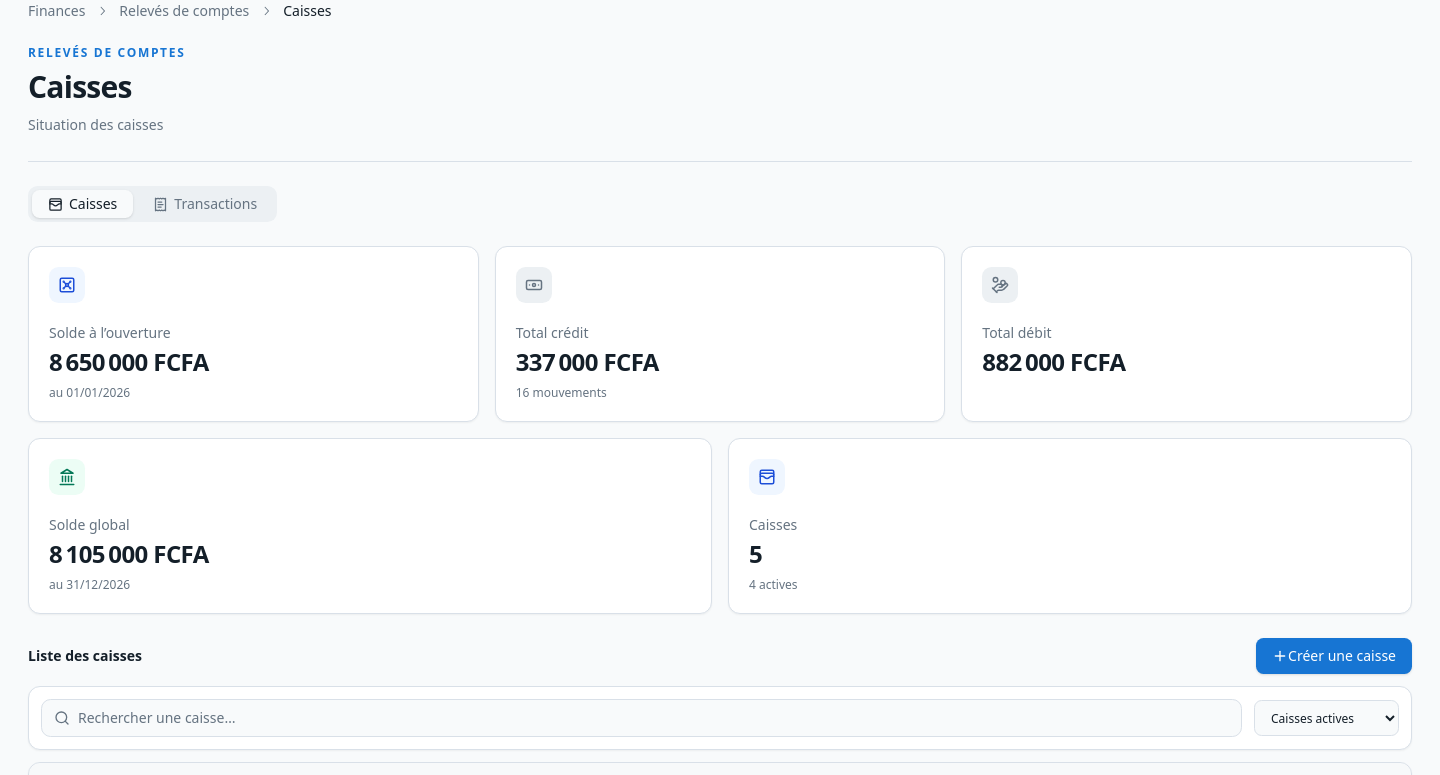
Test: Caisse — cycle de vie depuis l’interface › « Caisses inactives » regroupe aussi les caisses archivées (identifiables par leur badge)
Check: the button "Transport" is not shown
Select "Caisses inactives" in the dropdown named "Statut" at (1326, 718), box [1254,700,1399,736]
(page scrolled)
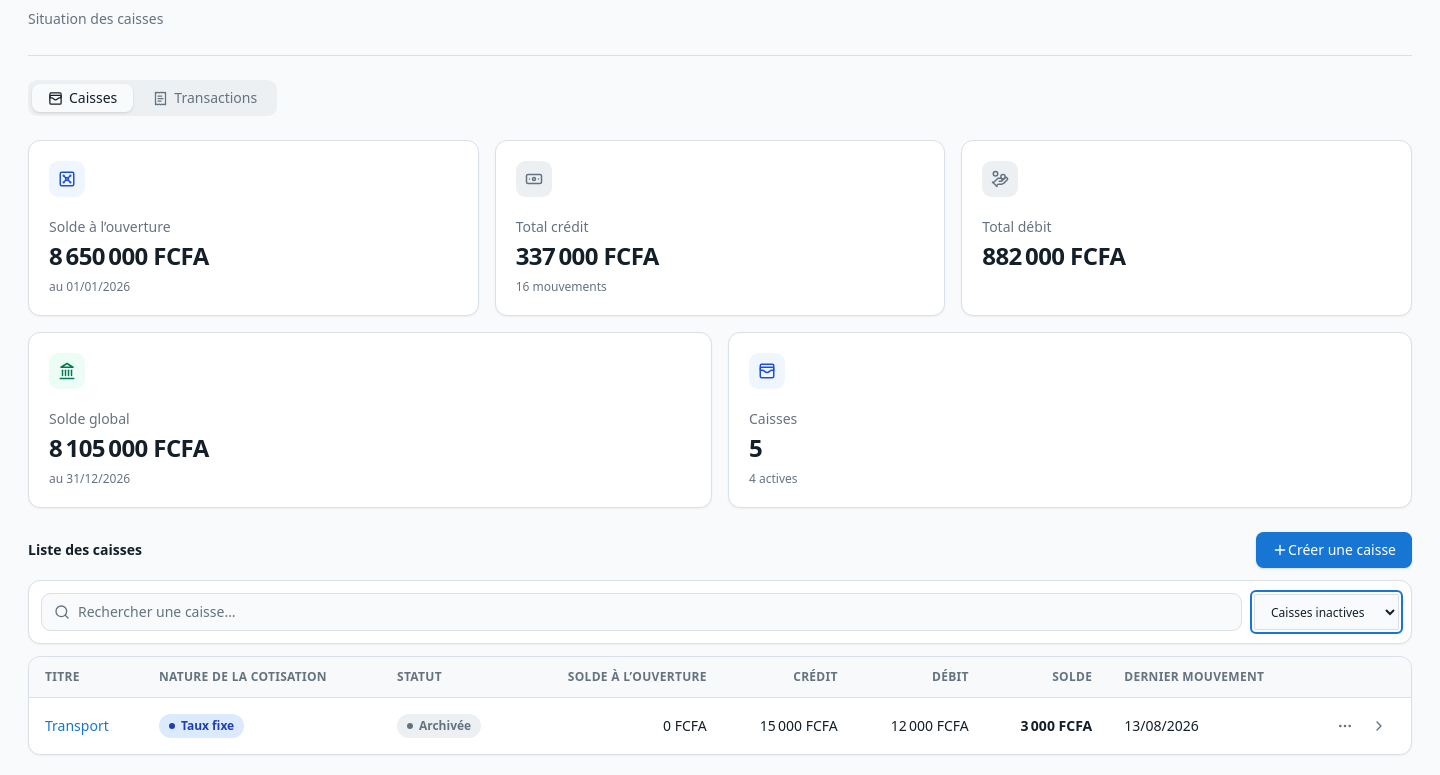
Check: the text "Archivée" is shown, box [397,714,481,738]
